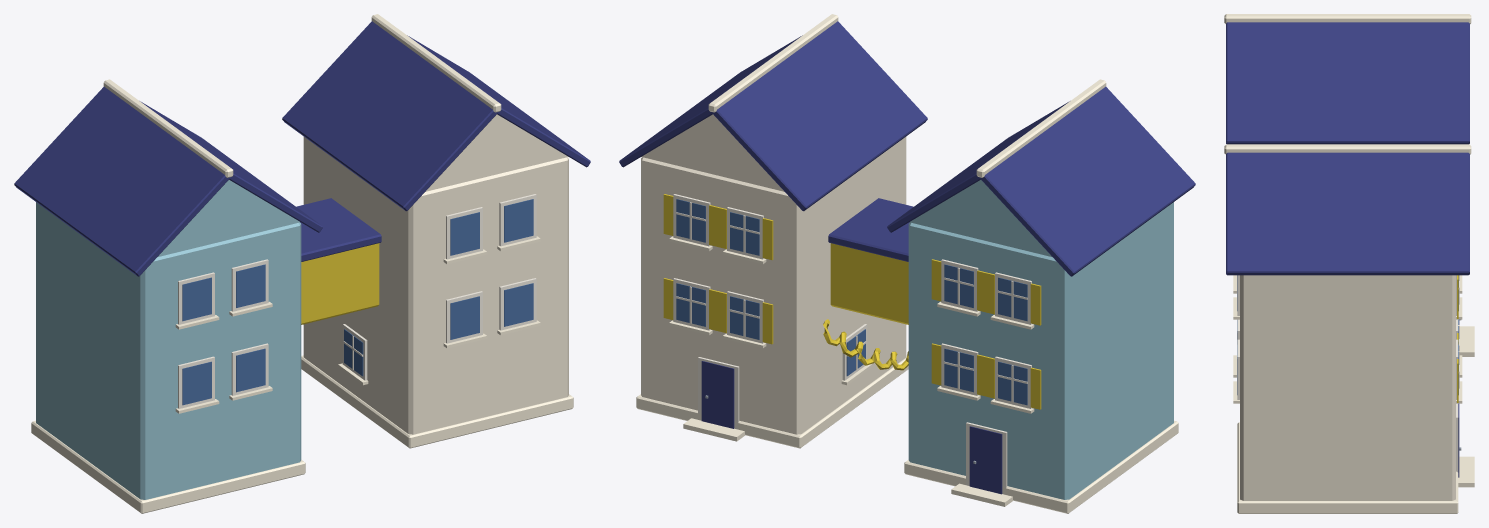
File: bld_d5_b.glb
3 renders of one model, left to right at view 1: azimuth 30°, elevation 25°; view 2: azimuth 150°, elevation 25°; view 3: azimuth 270°, elevation 25°, orthographic.
Visible parts, largest first — view 1: bld_d5_b; view 2: bld_d5_b; view 3: bld_d5_b.
Part boxes in pixels (x1,y1,x2,y2): bld_d5_b: [14, 14, 590, 513]; bld_d5_b: [619, 14, 1195, 513]; bld_d5_b: [1224, 14, 1474, 513].
Size of the model in its own units: 17.01 by 11.83 by 8.1.
